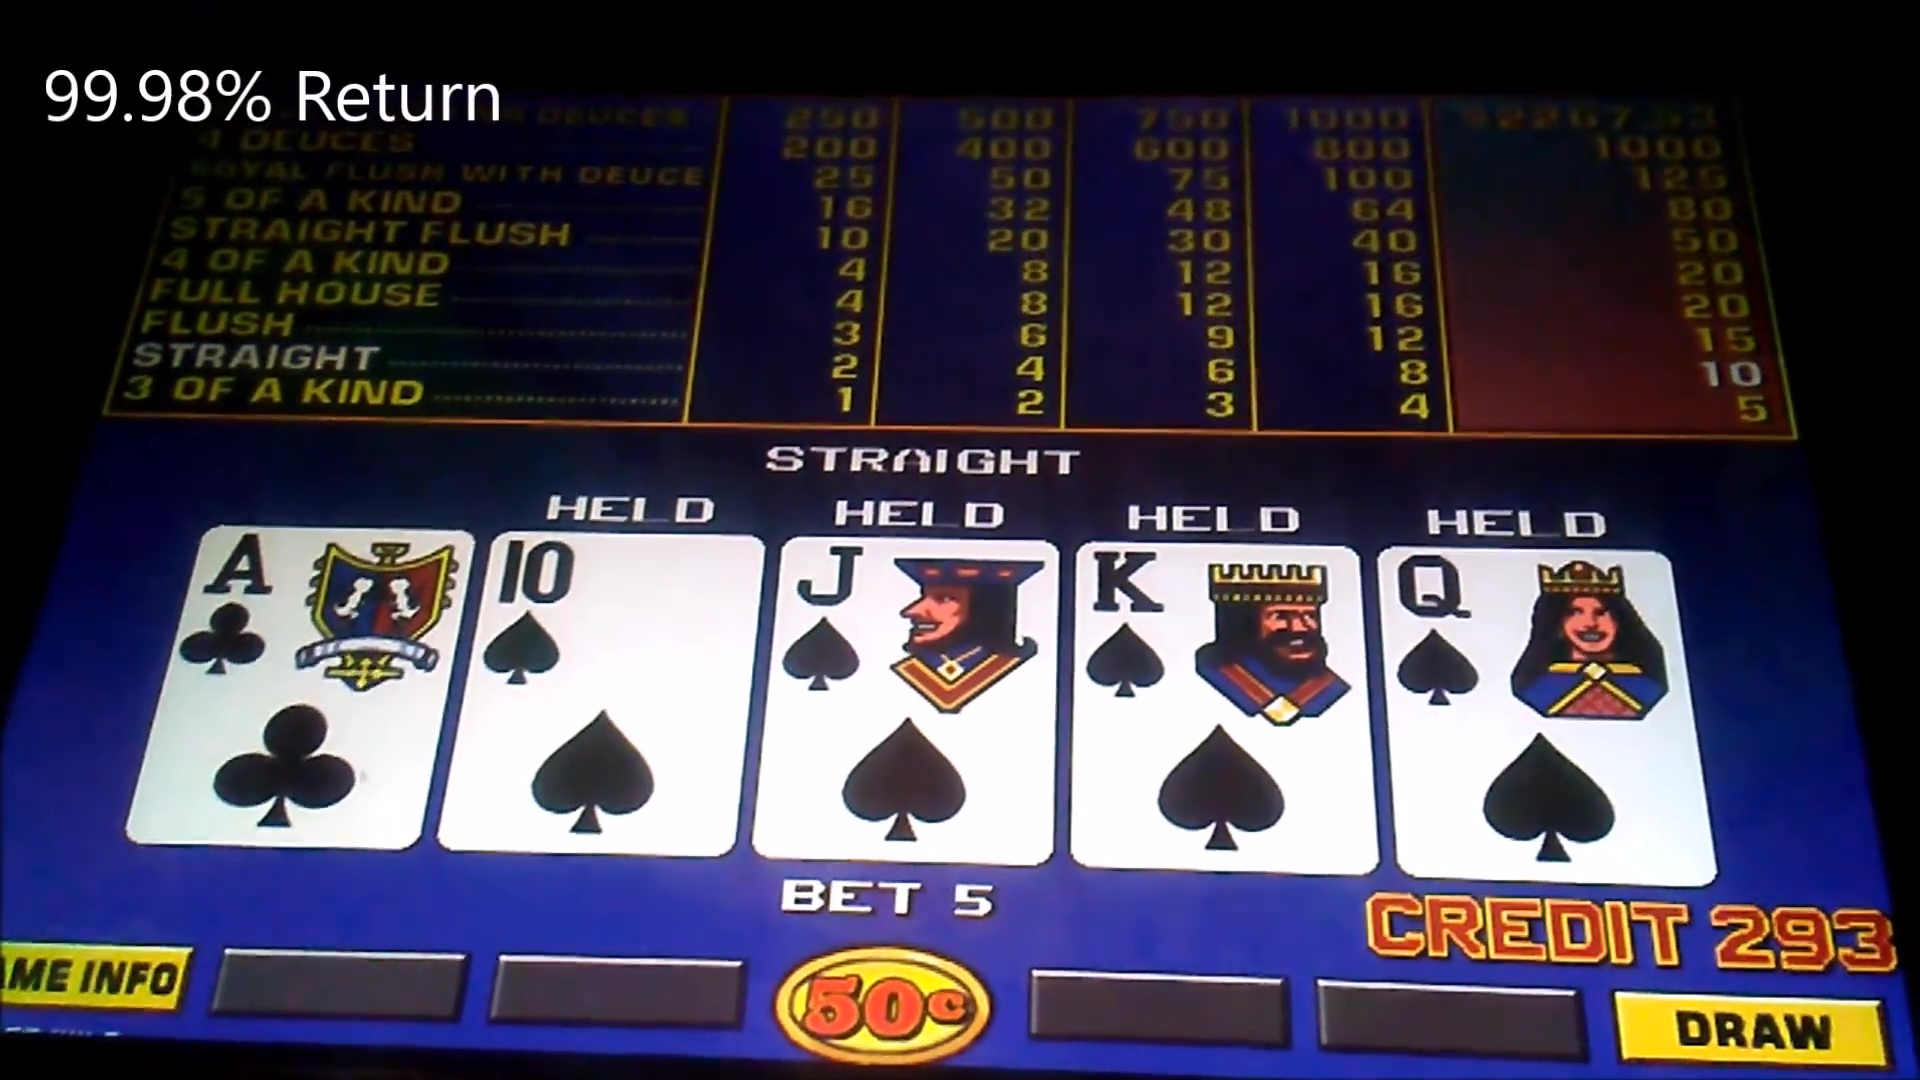CA: (191, 521, 434, 683)
SJ: (789, 541, 1048, 703)
SK: (1076, 539, 1367, 707)
SQ: (1393, 541, 1683, 712)
ST: (485, 531, 742, 692)
